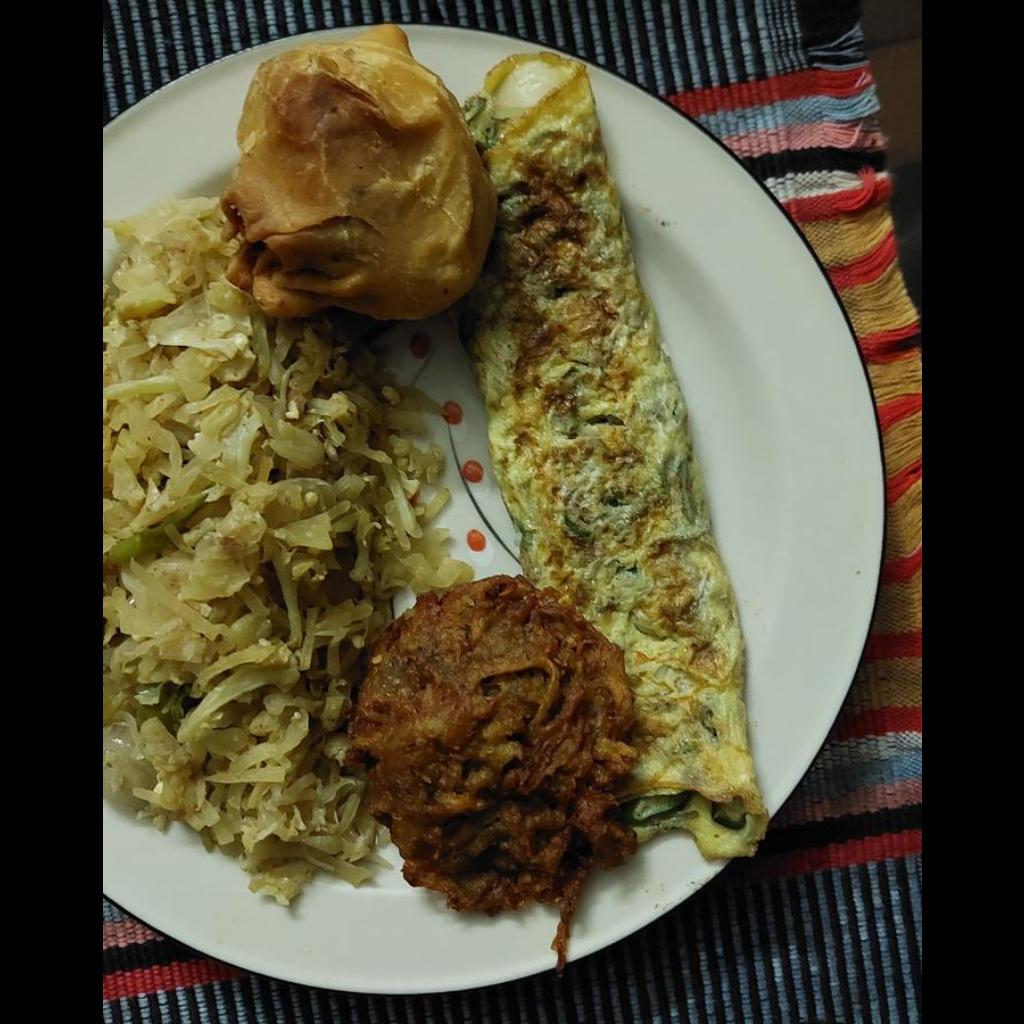egg-poached: (466, 56, 769, 858)
piyaju: (360, 582, 639, 908)
puri: (222, 30, 488, 329)
vaji: (102, 184, 475, 905)
